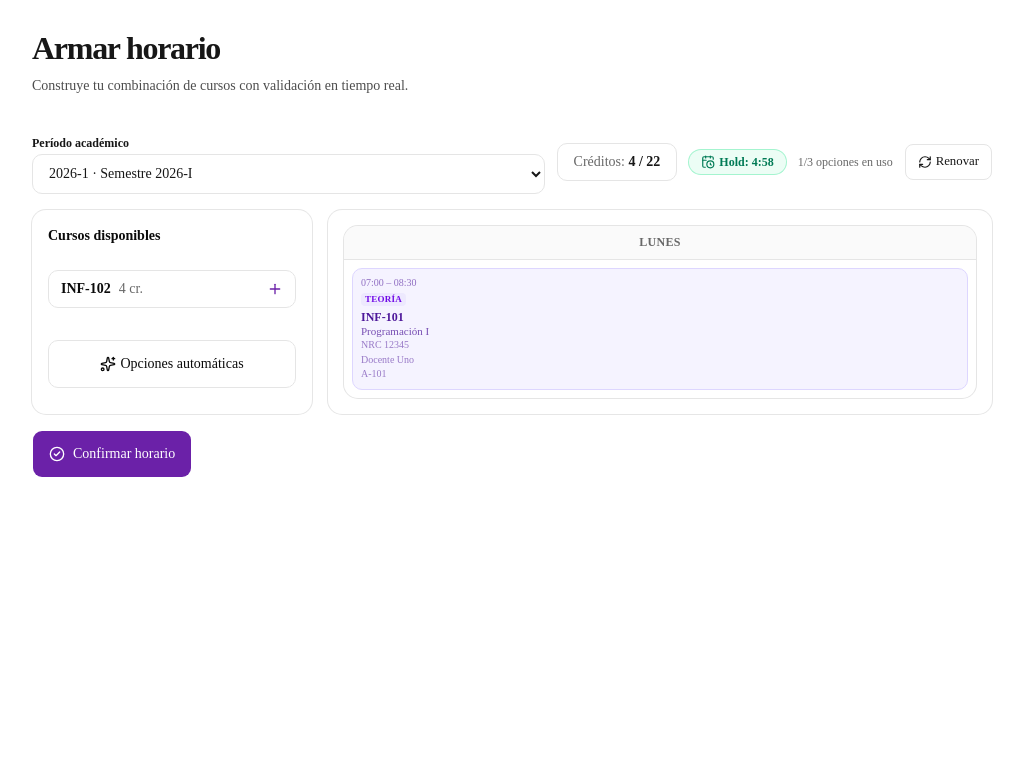
StudentScheduleBuilderScreen › abre el diálogo de confirmación del horario
Click the button "Confirmar horario". click: (112, 454)
box: [32,430,192,478]
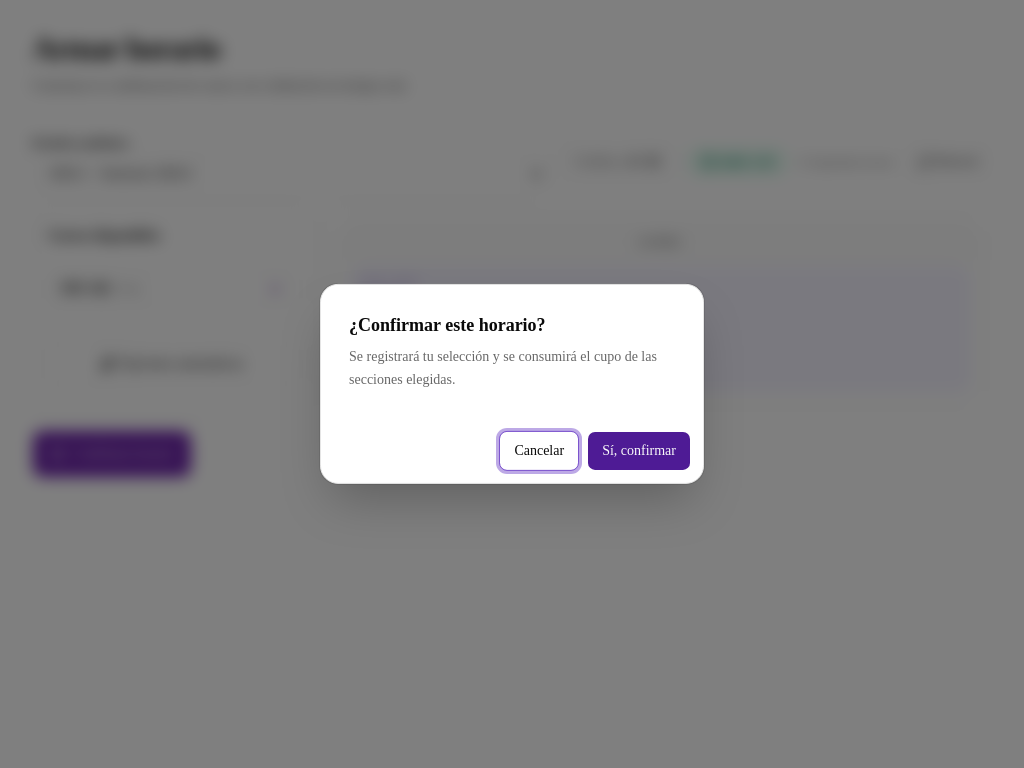
Check: the heading "¿Confirmar este horario?" is shown, box [349,313,546,338]
